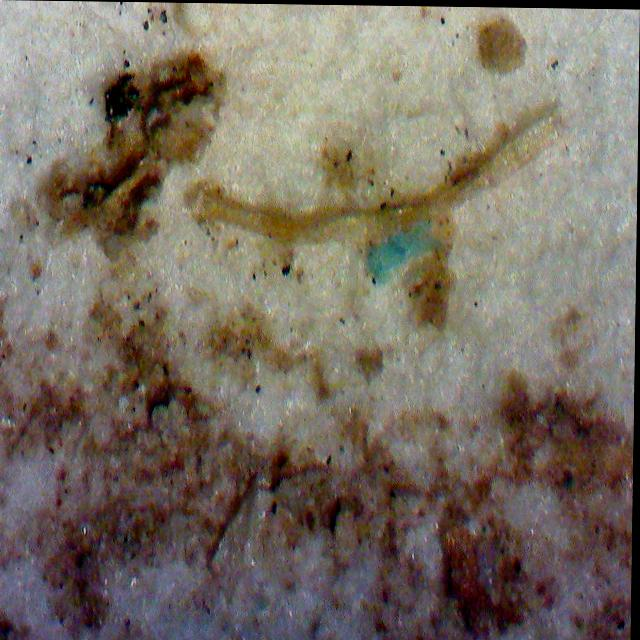microplastic: (367, 218, 439, 287)
